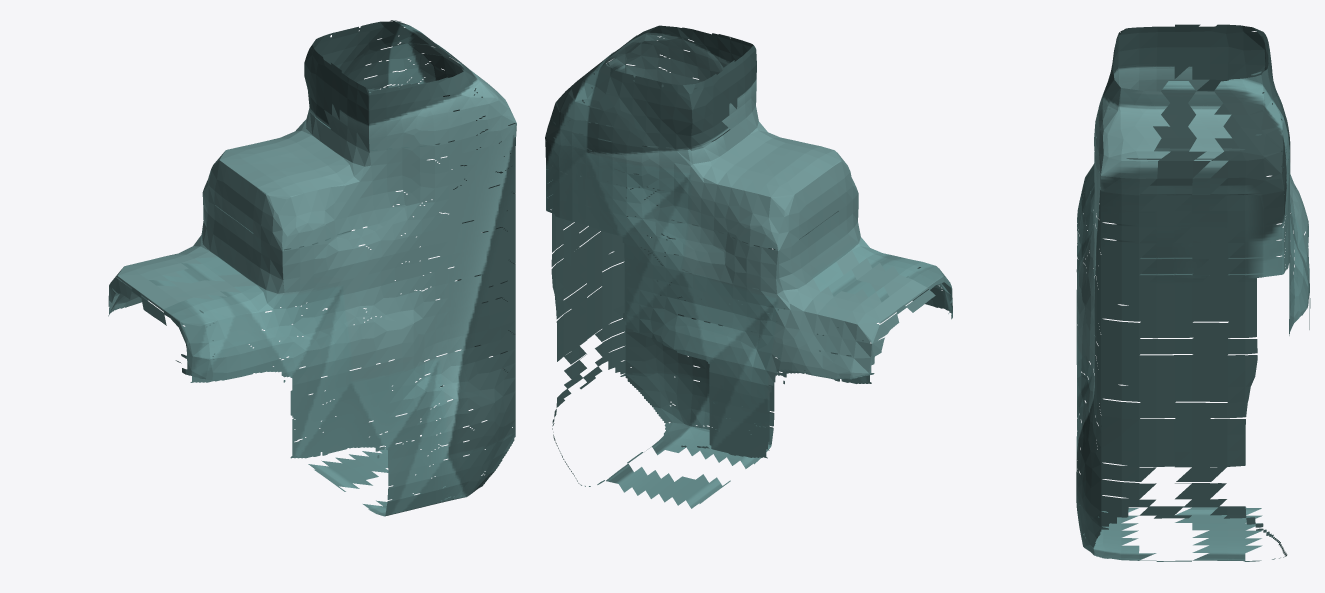
3 renders of one model, left to right at view 1: azimuth 30°, elevation 25°; view 2: azimuth 150°, elevation 25°; view 3: azimuth 270°, elevation 25°, orthographic. The views are drawn at different scales.
Parts seen in each view (by area): view 1: reconstruction; view 2: reconstruction; view 3: reconstruction.
Boxes of the visible parts, <box> form: reconstruction: <box>108,20,516,516</box>; reconstruction: <box>545,25,952,508</box>; reconstruction: <box>1076,24,1310,561</box>.
Bounding box in the file's own units: 1 × 1 × 0.4093.
1 material, 1 textured.
